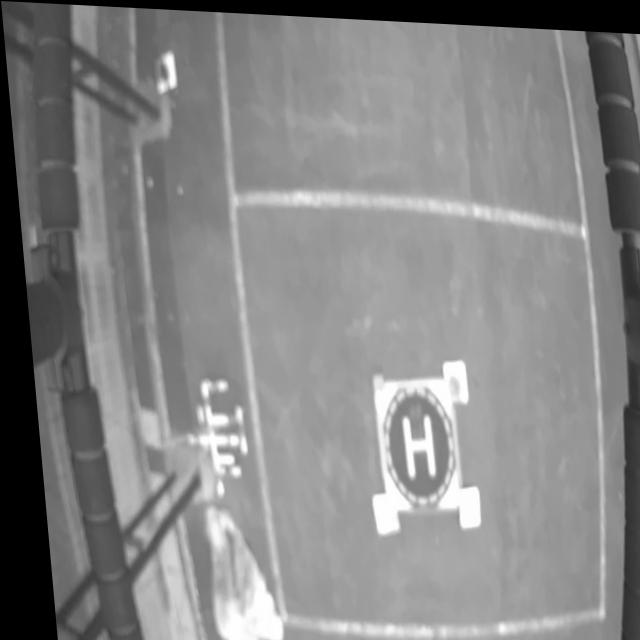Helipad: (393, 411, 427, 473)
